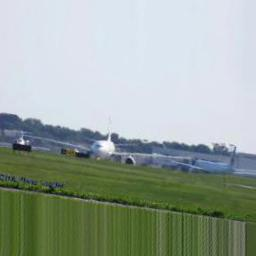Airplane: (53, 134, 171, 168)
